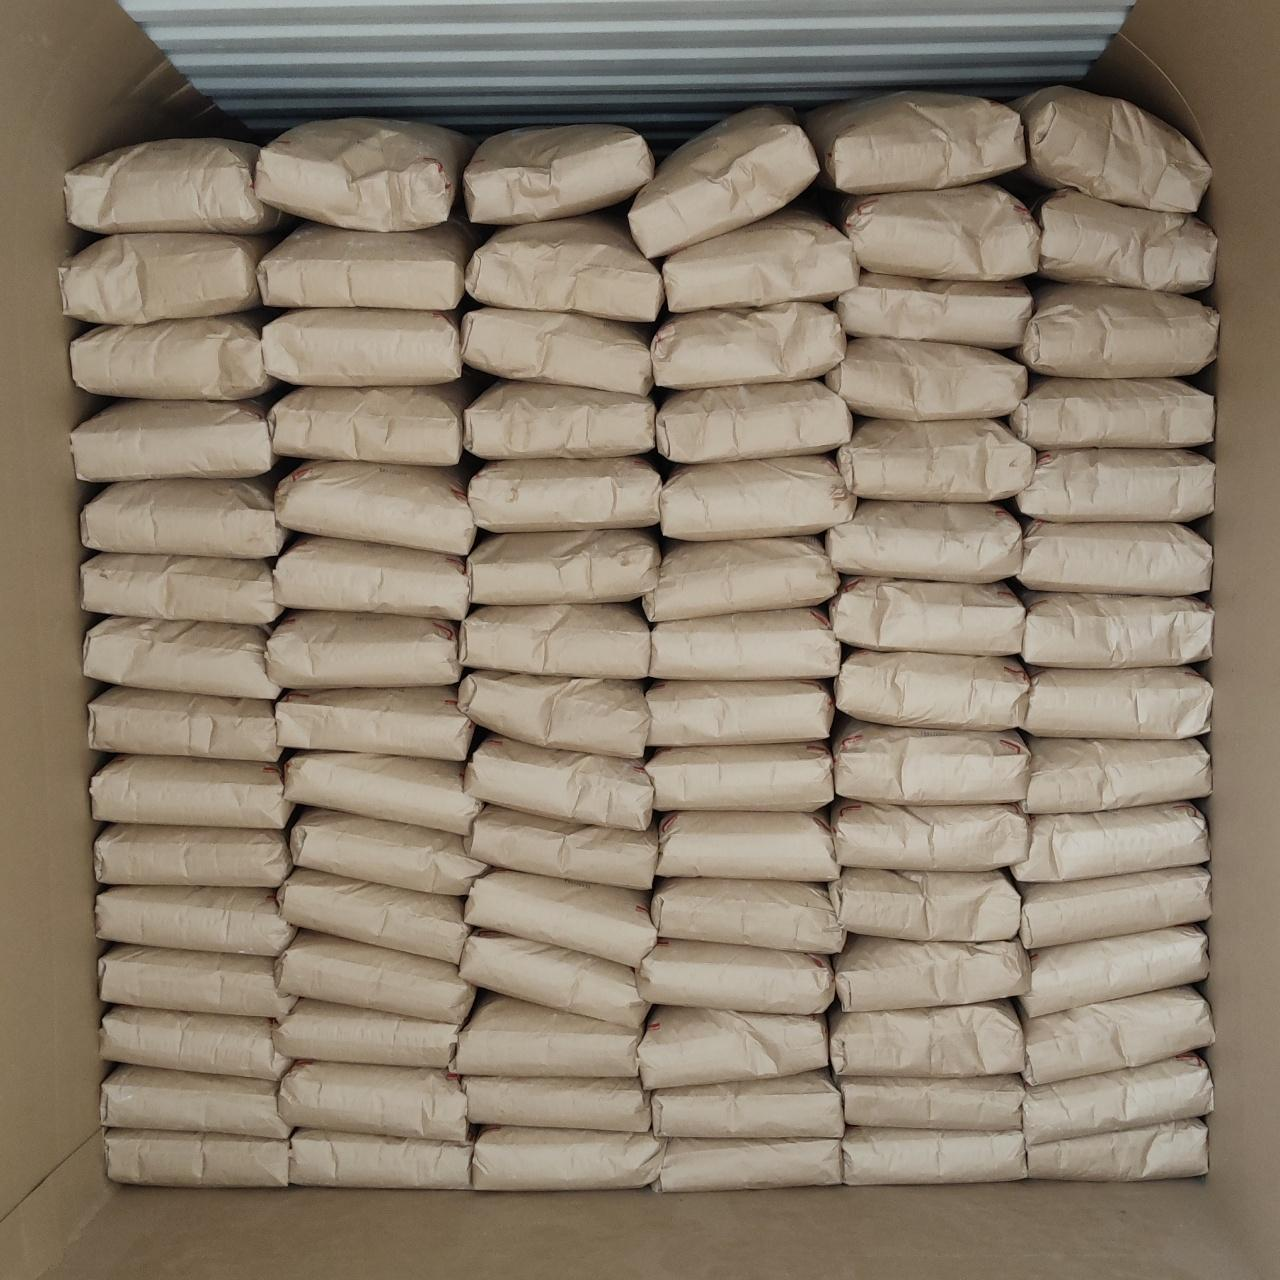sack: (630, 106, 814, 254), (1010, 86, 1210, 210), (258, 120, 472, 230), (804, 92, 1022, 190), (468, 212, 662, 318), (66, 140, 286, 230), (664, 208, 856, 310), (260, 222, 478, 310), (838, 184, 1038, 278), (1032, 190, 1214, 292), (62, 234, 272, 322), (1014, 284, 1216, 374), (464, 126, 652, 222), (278, 868, 468, 962), (276, 932, 472, 1022), (276, 462, 476, 550), (466, 872, 654, 964), (1024, 988, 1212, 1080), (462, 932, 646, 1026), (466, 734, 652, 826), (270, 380, 478, 462), (72, 314, 274, 398), (826, 338, 1026, 420), (834, 718, 1028, 802), (290, 810, 484, 894), (1022, 926, 1206, 1014), (1024, 1056, 1212, 1142), (74, 398, 276, 478), (652, 304, 844, 388), (274, 536, 470, 618), (460, 670, 646, 756), (462, 308, 652, 392), (82, 478, 286, 556), (656, 380, 850, 462), (644, 538, 836, 620), (838, 420, 1032, 500), (660, 456, 854, 536), (286, 752, 480, 832), (1018, 868, 1210, 948), (826, 502, 1020, 580), (468, 806, 656, 886), (454, 994, 640, 1074), (84, 618, 278, 694), (836, 272, 1030, 348), (830, 578, 1022, 654), (836, 650, 1028, 726), (640, 1008, 826, 1086), (1012, 804, 1208, 878), (466, 382, 654, 458), (264, 310, 462, 382), (268, 612, 460, 686), (836, 936, 1028, 1010), (280, 1064, 466, 1140), (638, 940, 832, 1012), (468, 530, 660, 602), (1018, 522, 1210, 594), (830, 1002, 1022, 1074), (1024, 738, 1210, 812), (1010, 378, 1212, 446), (470, 458, 660, 530), (652, 878, 842, 950), (462, 604, 646, 678), (832, 800, 1026, 870), (102, 1006, 290, 1078), (830, 868, 1018, 940), (92, 756, 290, 824), (278, 688, 470, 758), (1016, 450, 1212, 518), (82, 554, 278, 622), (100, 946, 294, 1014), (90, 688, 278, 758), (650, 608, 838, 678), (1024, 592, 1210, 662), (98, 888, 294, 954), (1024, 668, 1212, 736), (102, 1066, 288, 1134), (274, 1000, 462, 1066), (652, 1070, 842, 1134), (648, 744, 832, 810), (96, 824, 290, 886), (658, 812, 836, 878), (648, 680, 830, 742), (474, 1128, 662, 1188), (1030, 1120, 1206, 1180), (290, 1130, 470, 1188), (106, 1130, 286, 1186), (466, 1076, 648, 1130), (842, 1128, 1022, 1182), (654, 1138, 838, 1190), (840, 1076, 1022, 1128)
